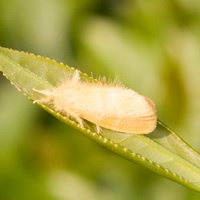insect: (35, 70, 156, 133)
